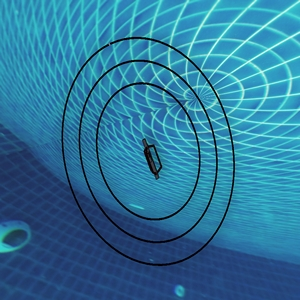circle: (56, 31, 238, 269)
